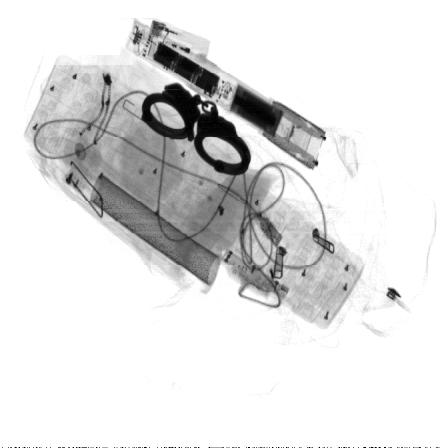Baton: (124, 20, 327, 170)
HandCuffs: (140, 81, 251, 177)
Lighter: (150, 19, 210, 60)
